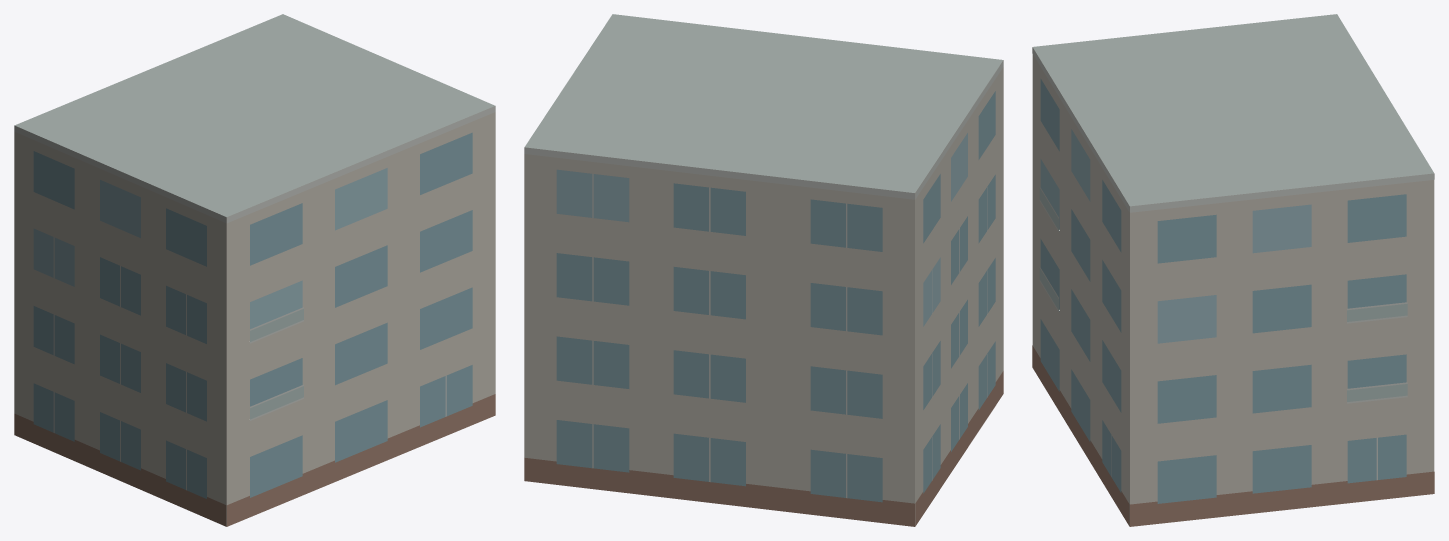
File: survey-upis-32704842.glb
3 views of the same model, side by side, from view 1: azimuth 30°, elevation 25°; view 2: azimuth 150°, elevation 25°; view 3: azimuth 270°, elevation 25° (orthographic). The views are drawn at different scales.
Parts seen in each view (by area): view 1: survey-upis-32704842.tmp; view 2: survey-upis-32704842.tmp; view 3: survey-upis-32704842.tmp.
Part boxes in pixels (<box>): survey-upis-32704842.tmp: <box>14,14,495,526</box>; survey-upis-32704842.tmp: <box>524,14,1003,526</box>; survey-upis-32704842.tmp: <box>1032,14,1434,526</box>.
Bounding box in the file's own units: 15.72 × 12.2 × 13.88.
